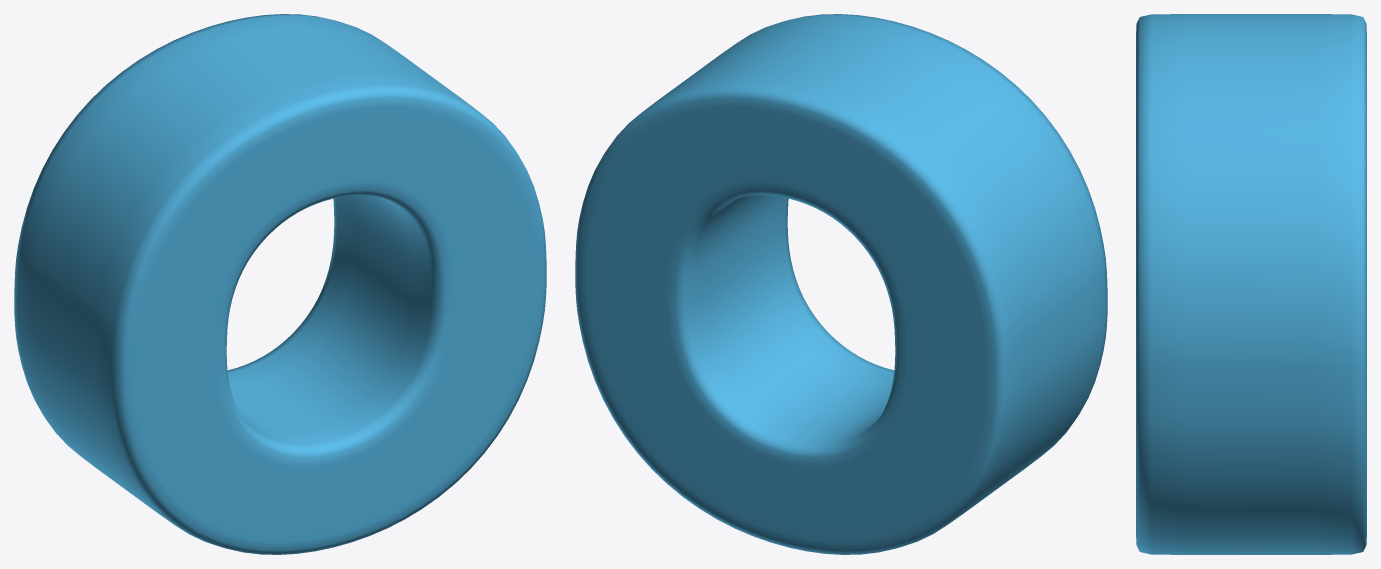
Rendered from o-CGV39XEe.glb.
The picture shows the model from 3 angles, left to right: view 1: azimuth 30°, elevation 25°; view 2: azimuth 150°, elevation 25°; view 3: azimuth 270°, elevation 25°; orthographic projection. The views are drawn at different scales.
Parts seen in each view (by area): view 1: o; view 2: o; view 3: o.
Boxes of the visible parts, <box> form: o: <box>14,14,546,554</box>; o: <box>575,14,1107,554</box>; o: <box>1136,14,1366,554</box>.
Size of the model in its own units: 0.9187 by 0.9231 by 0.4.
